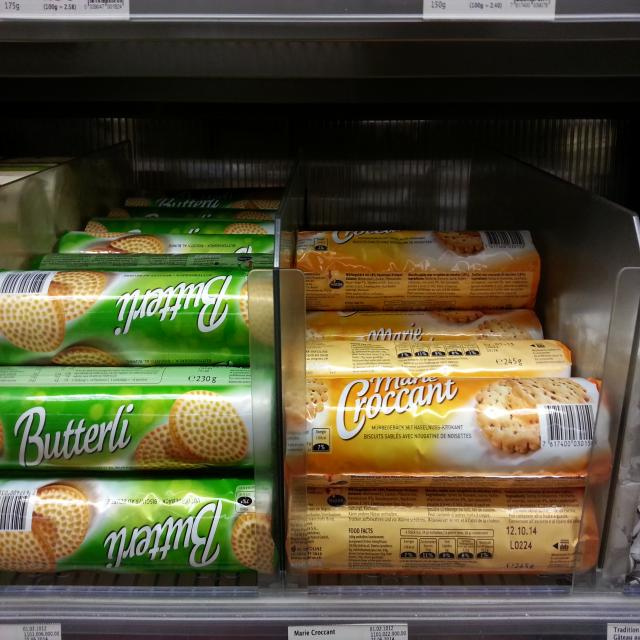Biscuits: (280, 362, 615, 486), (0, 361, 272, 476), (0, 471, 278, 578), (286, 482, 600, 576), (0, 265, 276, 366), (290, 233, 540, 309)
